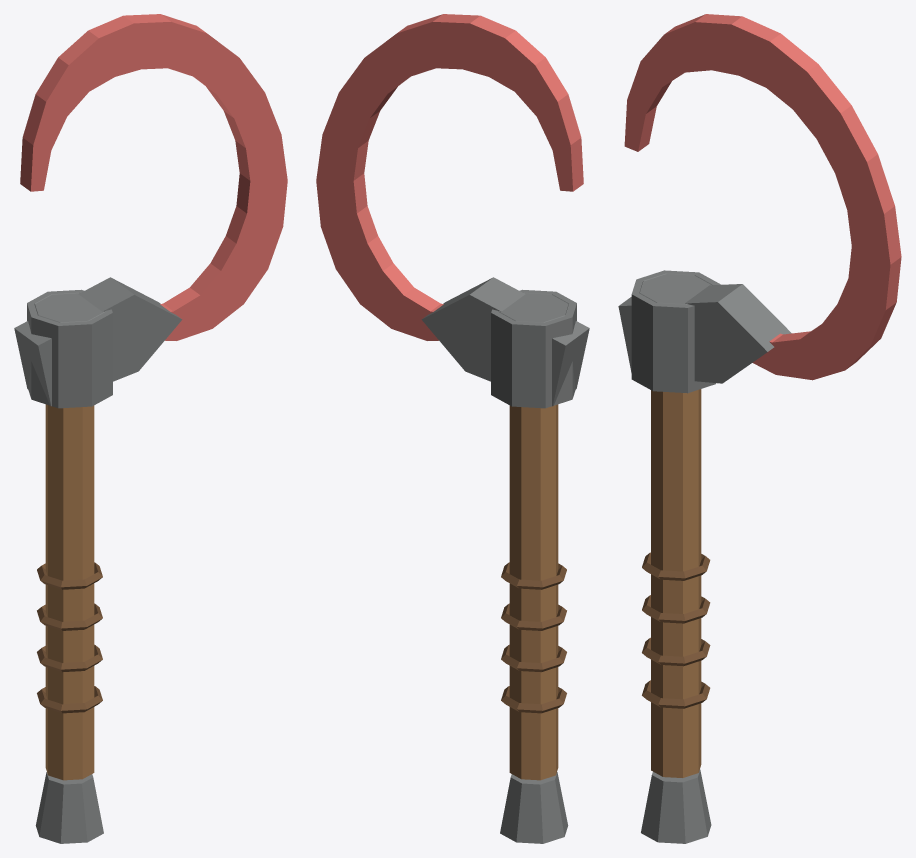
File: t5_sickle.glb
3 renders of one model, left to right at view 1: azimuth 30°, elevation 25°; view 2: azimuth 150°, elevation 25°; view 3: azimuth 330°, elevation 25°, orthographic. The views are drawn at different scales.
Visible parts, largest first — view 1: CurvedBlade, WoodHandle, BladeSocket, BladeBasePlate, BottomPommel, LeatherWrap3, LeatherWrap1, LeatherWrap4, LeatherWrap2; view 2: CurvedBlade, WoodHandle, BladeSocket, BladeBasePlate, BottomPommel, LeatherWrap3, LeatherWrap1, LeatherWrap4, LeatherWrap2; view 3: CurvedBlade, WoodHandle, BladeSocket, BladeBasePlate, BottomPommel, LeatherWrap4, LeatherWrap2, LeatherWrap3, LeatherWrap1.
Boxes of the visible parts, x1,y1,x2,y2 form: CurvedBlade: (20,14,287,340); WoodHandle: (45,404,94,780); BladeSocket: (27,289,112,408); BladeBasePlate: (14,277,182,406); BottomPommel: (35,772,103,843); LeatherWrap3: (37,603,102,630); LeatherWrap1: (37,686,102,713); LeatherWrap4: (37,562,102,589); LeatherWrap2: (37,644,102,672); CurvedBlade: (316,14,583,340); WoodHandle: (509,404,558,780); BladeSocket: (491,289,576,408); BladeBasePlate: (421,277,589,406); BottomPommel: (500,772,568,843); LeatherWrap3: (501,603,566,630); LeatherWrap1: (501,686,566,713); LeatherWrap4: (501,562,566,589); LeatherWrap2: (501,644,566,672); CurvedBlade: (624,14,901,380); WoodHandle: (651,389,701,777); BladeSocket: (631,270,720,393); BladeBasePlate: (618,284,791,383); BottomPommel: (641,769,711,843); LeatherWrap4: (642,552,710,580); LeatherWrap2: (642,637,710,666); LeatherWrap3: (642,595,710,623); LeatherWrap1: (642,680,710,708).
Bounding box in the file's own units: 0.5877 × 1.74 × 0.176.
